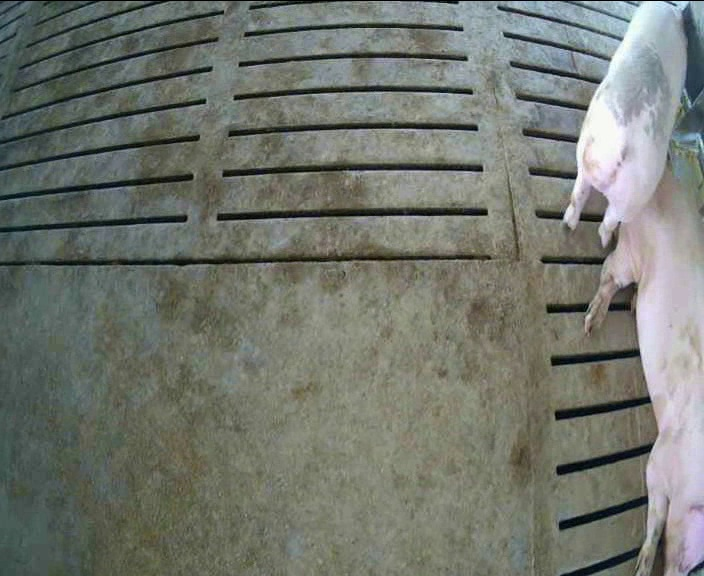pig: (585, 165, 703, 574), (563, 2, 686, 245)
